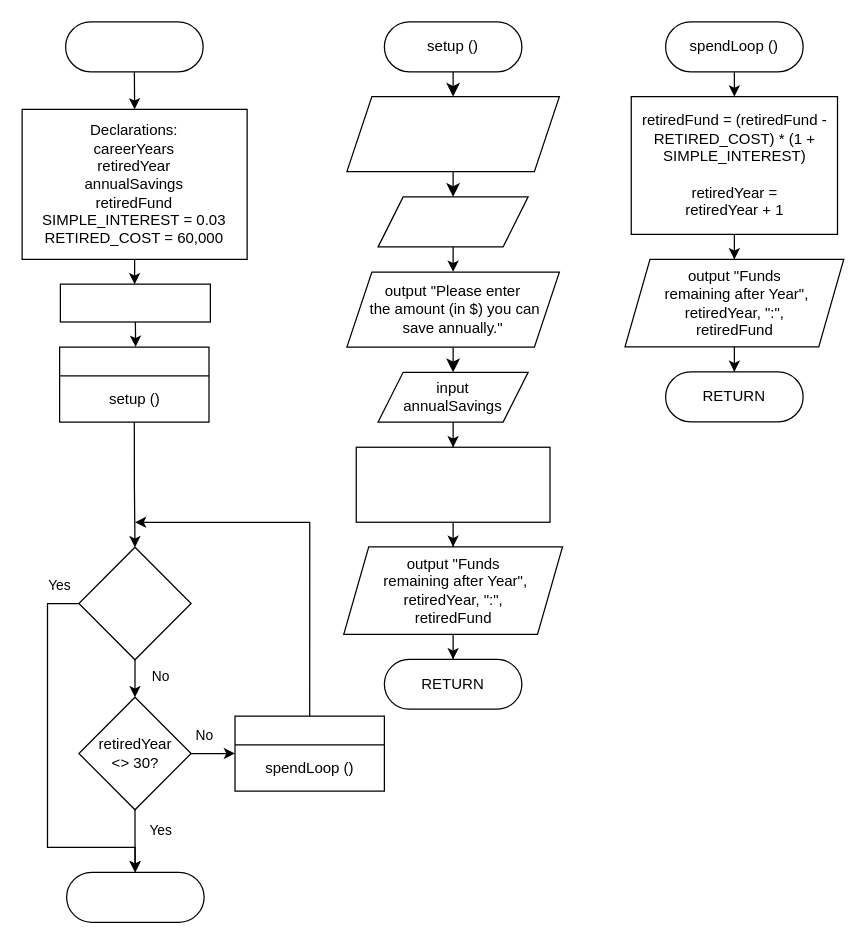
Image size: 866x945. Some labels were removed from this diagram. Each missing label, with the centre of its shape:
END: pixel 134 896
input careerYears: pixel 452 221
output "Please enter the number of years remaining in your career.": pixel 452 133
retiredFund <= 0?: pixel 134 603
retiredFund = careerYears * annualSavings * (1 + SIMPLE_INTEREST): pixel 452 484
retiredYear = 0: pixel 134 302
START: pixel 133 46
